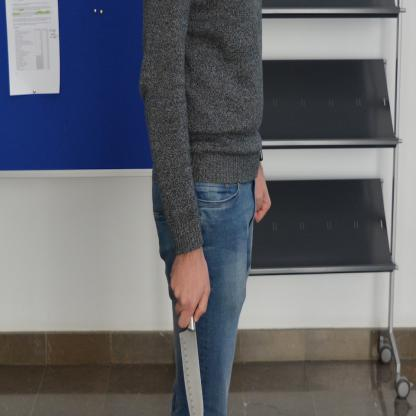knife: (173, 304, 208, 416)
